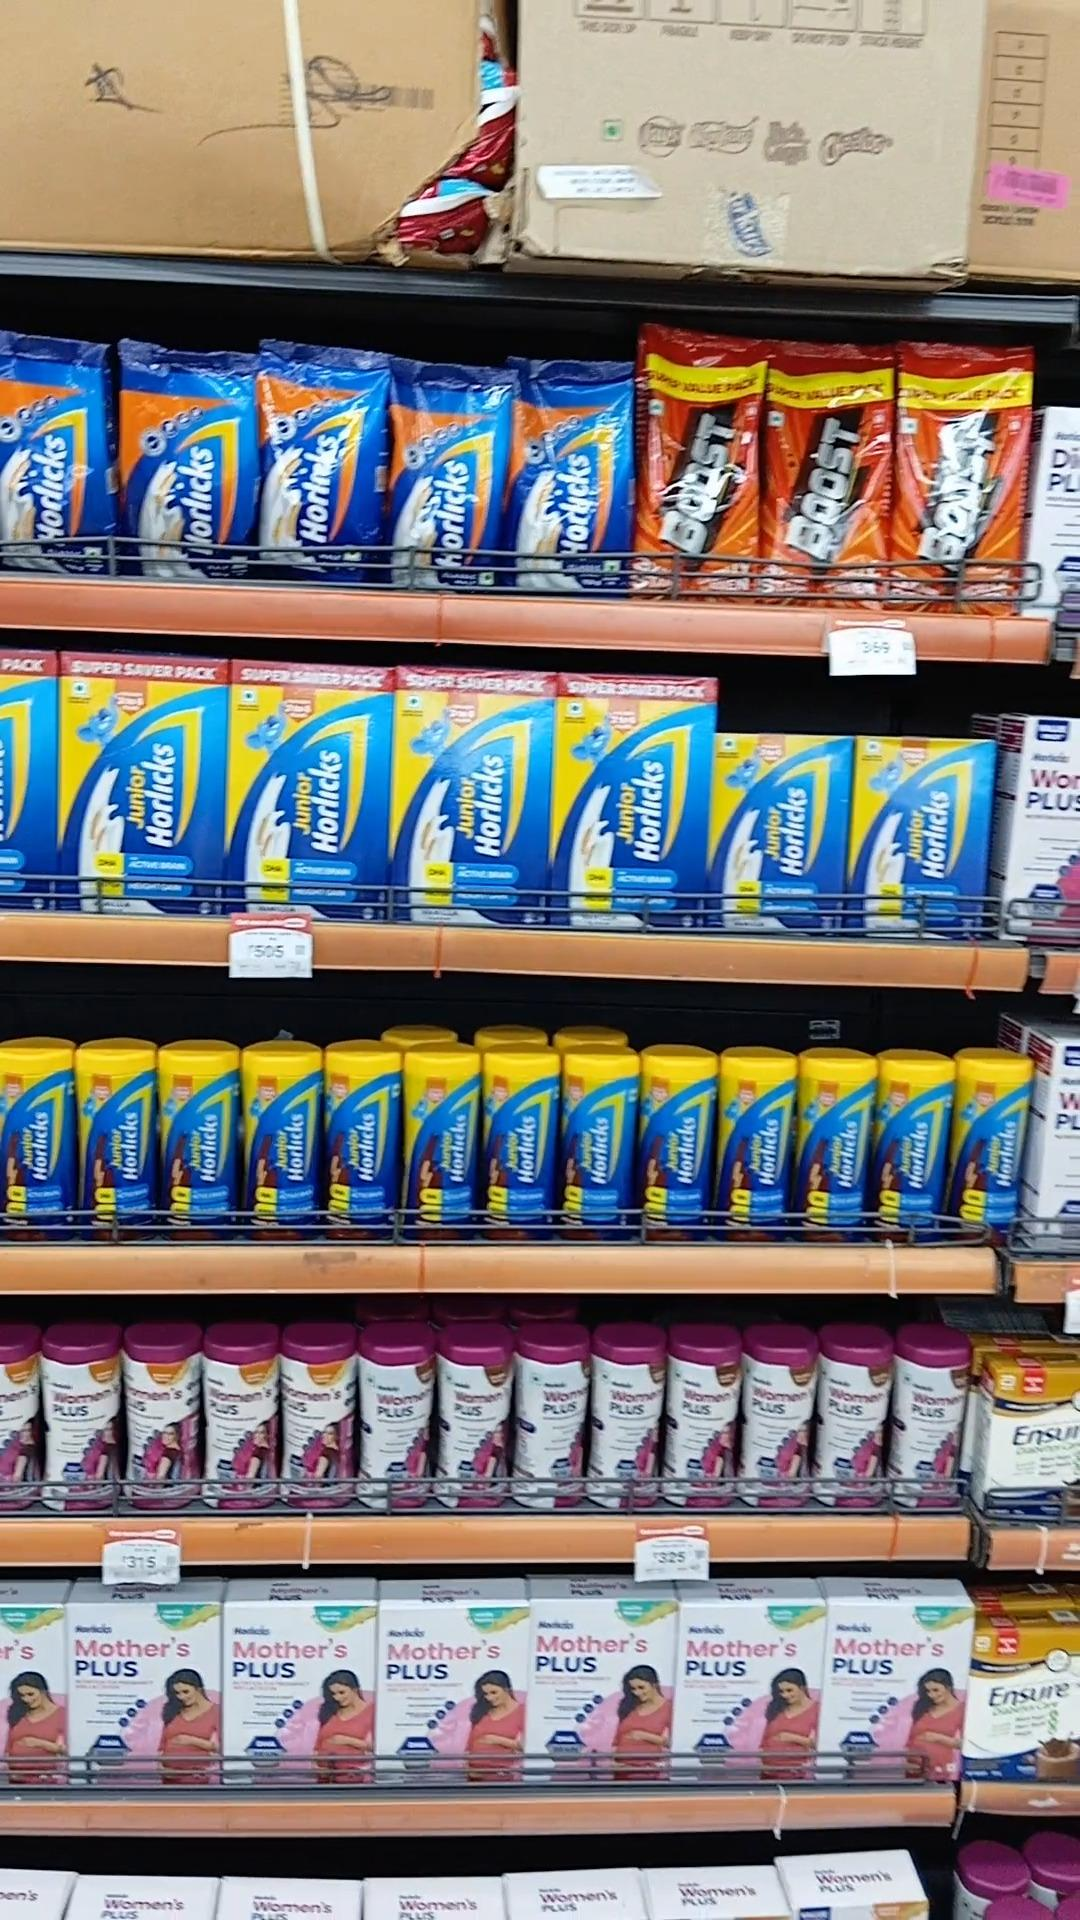HORLICKS_JUNIOR_VANILLA_500_GM_JAR: (798, 1056, 881, 1246), (241, 1043, 318, 1249), (0, 1047, 74, 1249), (158, 1048, 233, 1246), (562, 1052, 637, 1249), (323, 1047, 398, 1242), (641, 1054, 716, 1249), (481, 1051, 555, 1244), (80, 1044, 152, 1244), (406, 1055, 477, 1251), (719, 1050, 789, 1246), (957, 1055, 1025, 1250), (887, 1055, 944, 1249)
HORLICK_CLASSIC_MALT_750_G_POUCH: (504, 360, 633, 596), (265, 344, 385, 583), (123, 349, 247, 578), (0, 336, 111, 574), (393, 364, 500, 592)
